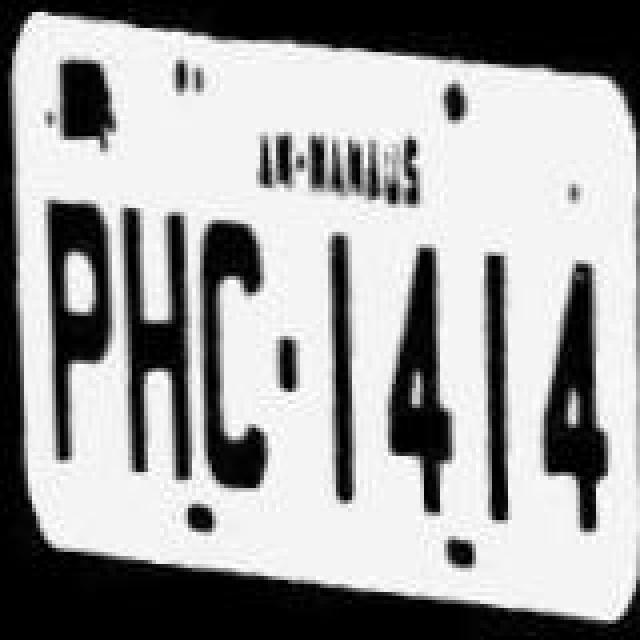1: (464, 246, 520, 542), (316, 220, 372, 500)
4: (530, 250, 614, 550), (374, 232, 458, 520)
C: (192, 210, 280, 494)
H: (112, 180, 196, 488)
P: (38, 188, 126, 508)
